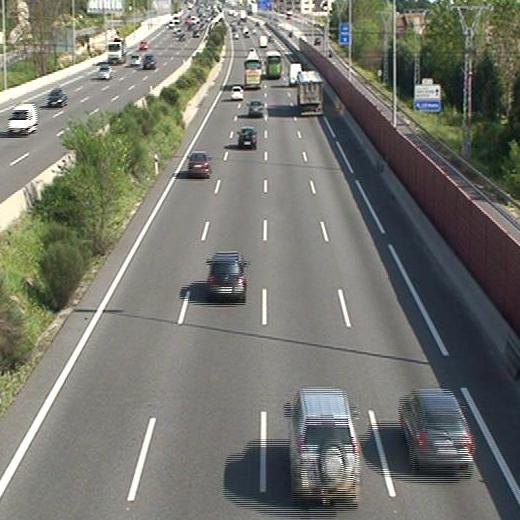bus: (243, 59, 263, 87), (265, 53, 283, 77)
car: (288, 389, 359, 495), (400, 393, 473, 468), (208, 253, 245, 298), (188, 152, 211, 176), (238, 127, 257, 146), (248, 100, 263, 116), (231, 87, 242, 99)
truck: (297, 70, 322, 116)
van: (288, 63, 302, 84)
